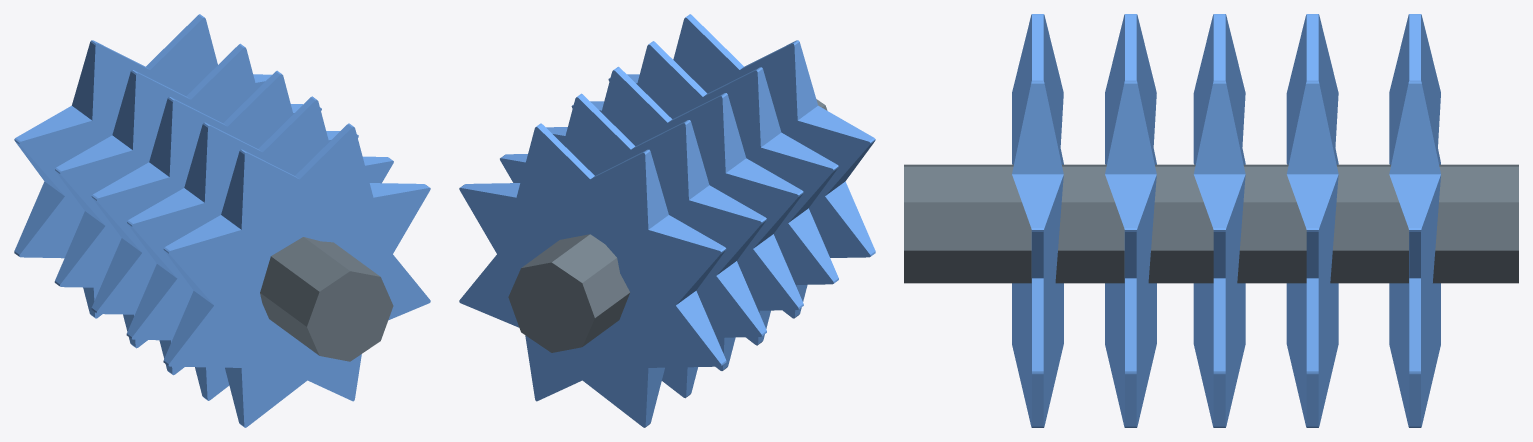
File: Cog 1.fbx
3 views of the same model, side by side, from view 1: azimuth 30°, elevation 25°; view 2: azimuth 150°, elevation 25°; view 3: azimuth 270°, elevation 25° (orthographic). The views are drawn at different scales.
Visible parts, largest first — view 1: Cog 1; view 2: Cog 1; view 3: Cog 1.
Boxes of the visible parts, bbox=[...] form: Cog 1: bbox=[14, 14, 430, 427]; Cog 1: bbox=[459, 14, 875, 427]; Cog 1: bbox=[904, 14, 1518, 427].
Bounding box in the file's own units: 102 × 102 × 163.
